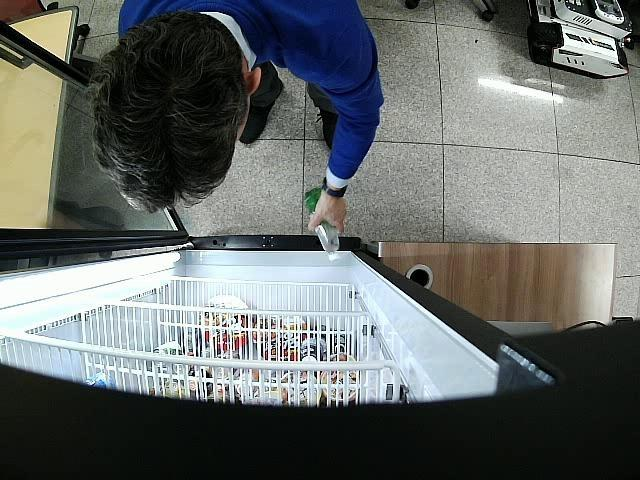18_trevi: (306, 186, 342, 264)
